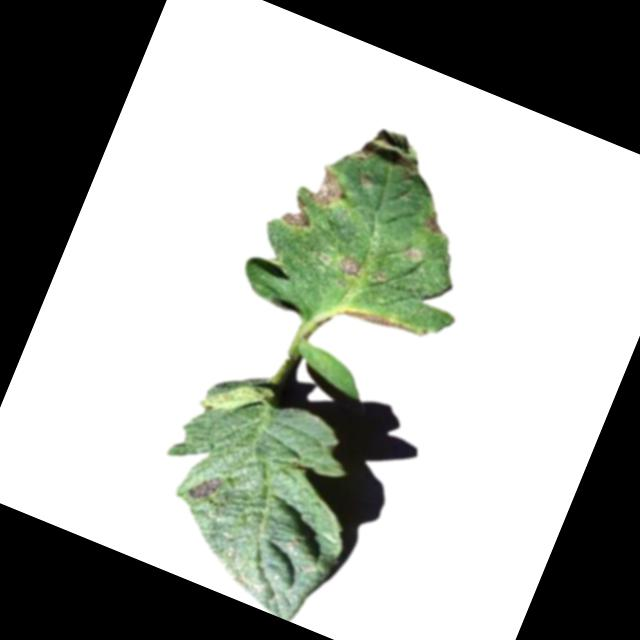Early_blight: (353, 119, 431, 183), (337, 300, 420, 346), (304, 162, 354, 214), (277, 192, 317, 235), (184, 469, 223, 507), (422, 209, 450, 238), (337, 255, 364, 281)
